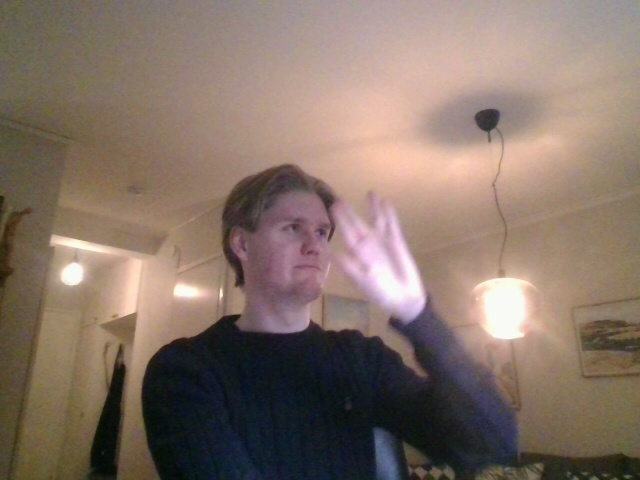LiveLong: (325, 186, 424, 313)
